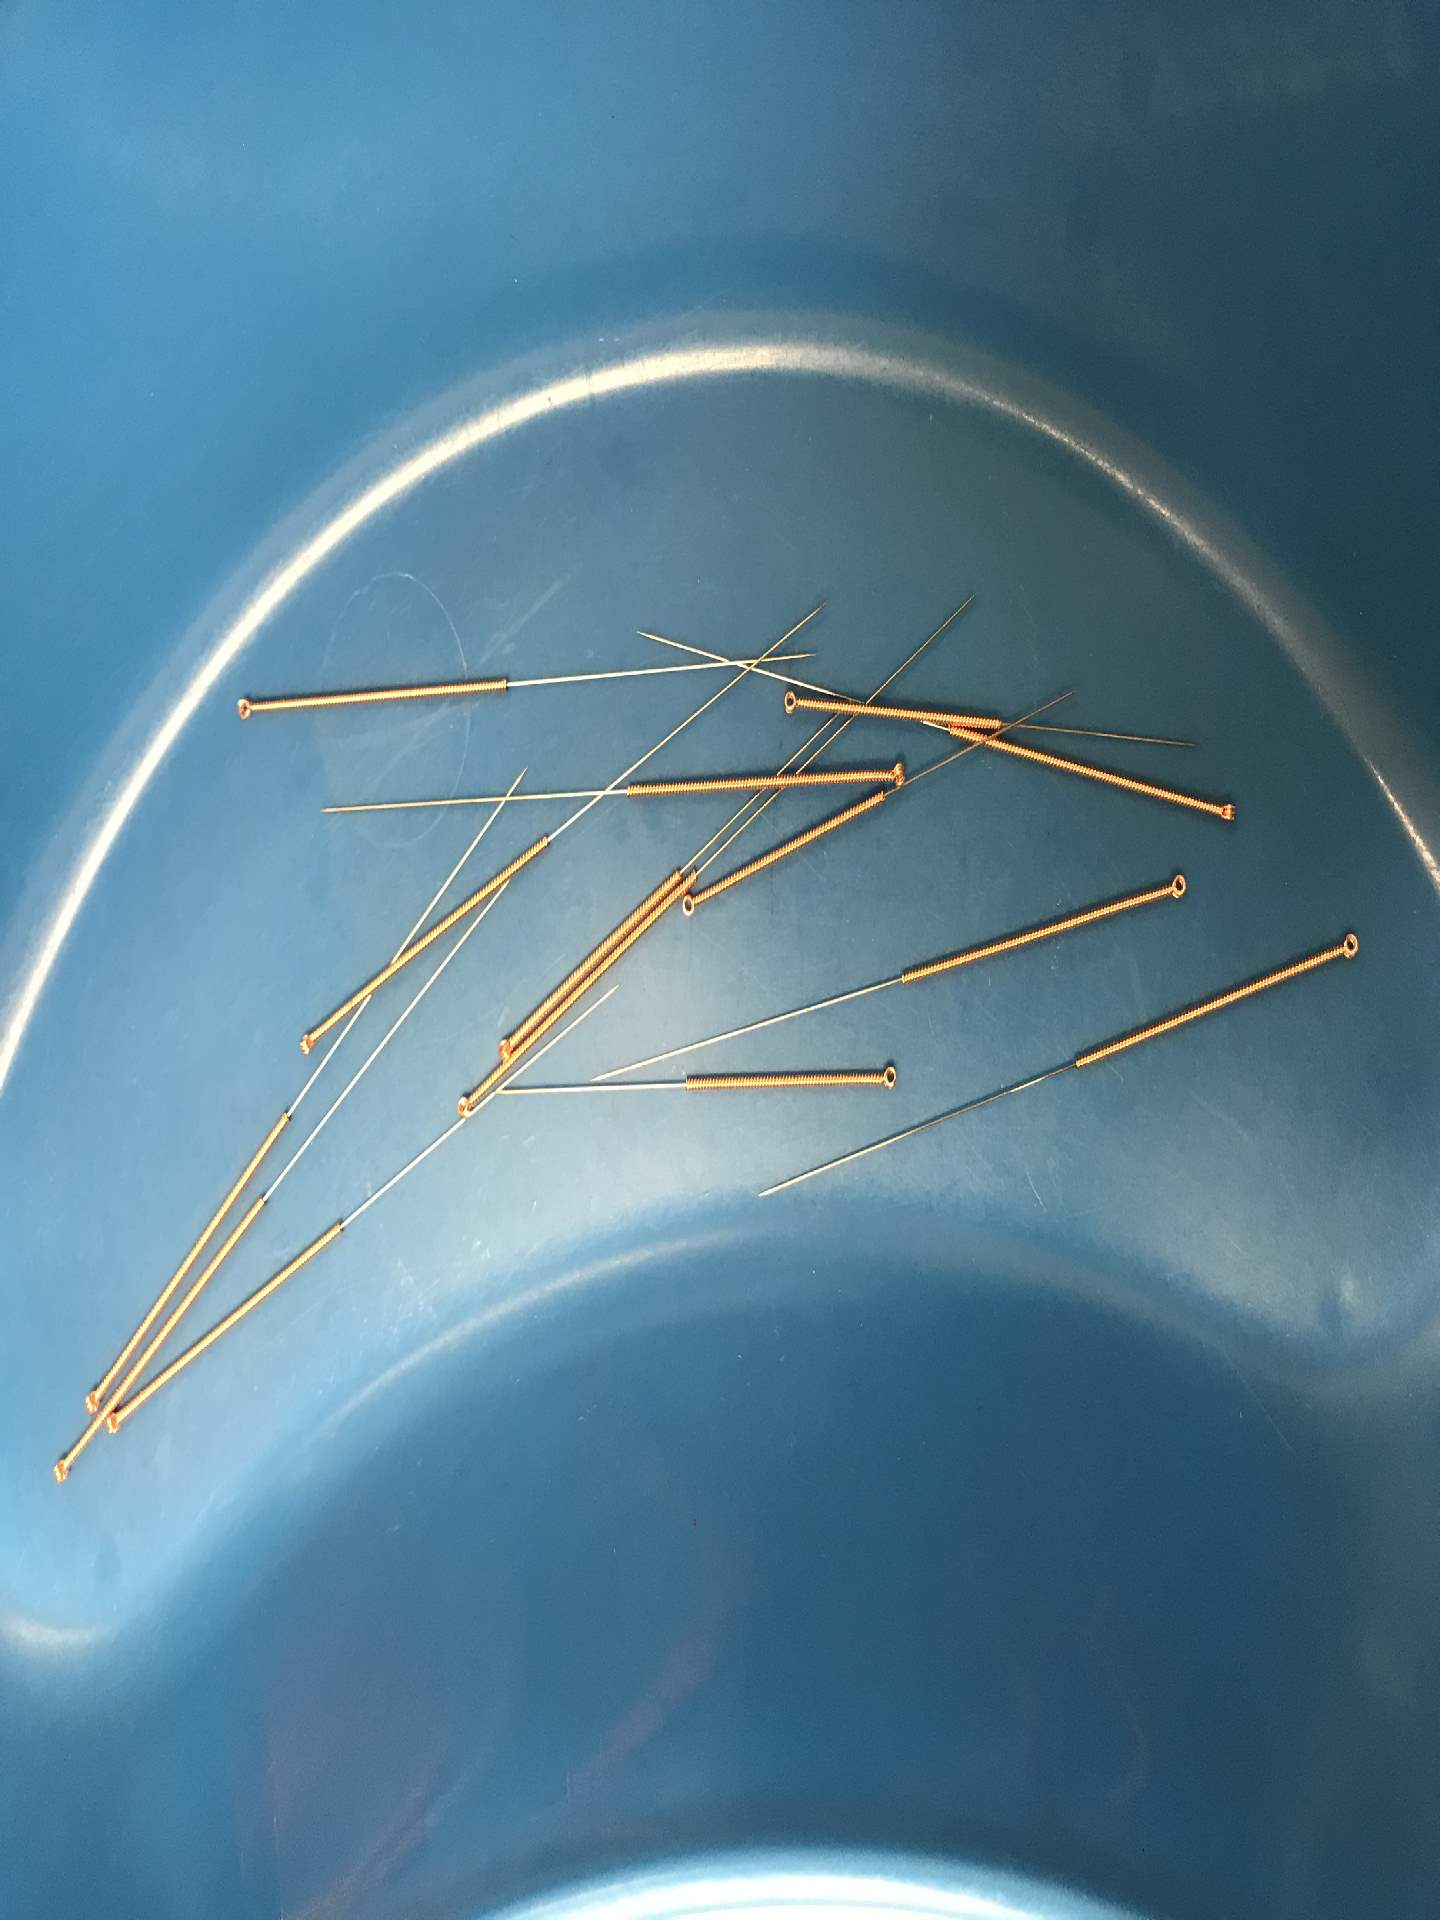needle: (1159, 866, 1192, 906), (1331, 925, 1364, 965), (871, 1058, 903, 1095), (880, 757, 914, 791), (1210, 794, 1242, 828), (45, 1453, 76, 1488), (228, 692, 259, 726), (774, 685, 805, 717), (79, 1380, 104, 1417), (292, 1027, 319, 1060), (449, 1090, 475, 1120), (678, 889, 702, 919), (492, 1033, 514, 1061), (103, 1411, 126, 1439)
